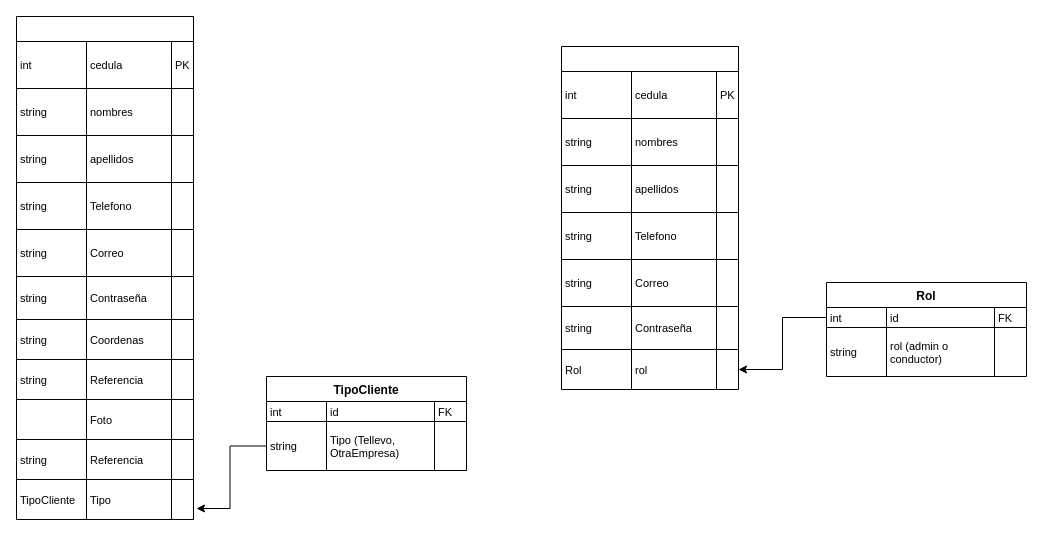
Some shapes in this 1043 by 536 pixel diagram are drawn without their labels. The shapes that lost their labels are listed below. From the top down, each one's box as (x1, y1, x2, y2) in pixels, then its label:
(560, 46, 738, 390): Usurarios
(16, 16, 194, 520): Clientes
